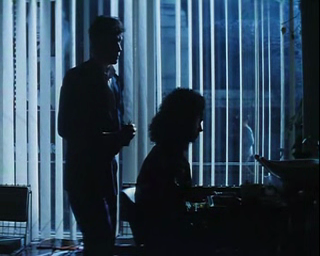face: (189, 112, 205, 143), (110, 32, 123, 64)
mls: (1, 1, 320, 256)
person: (57, 16, 138, 256), (135, 86, 216, 256)
